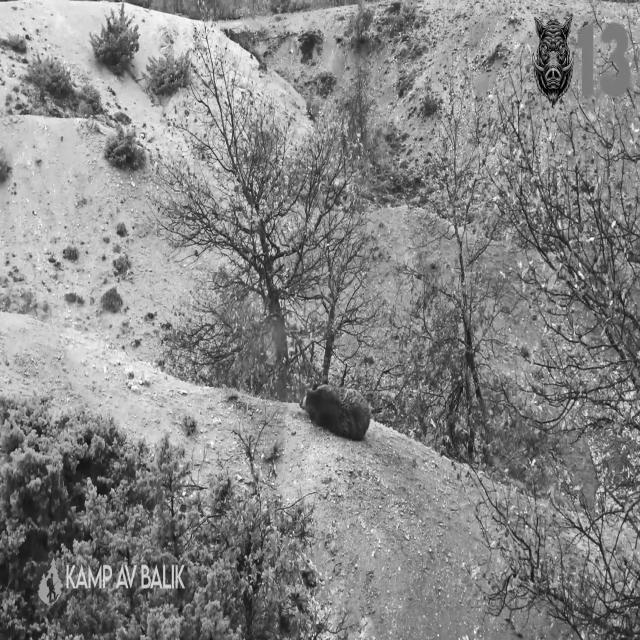boar: (305, 384, 370, 439)
